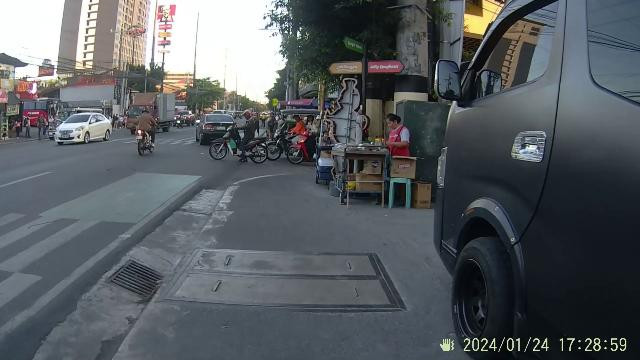street_vendor_cart: (334, 136, 396, 206)
